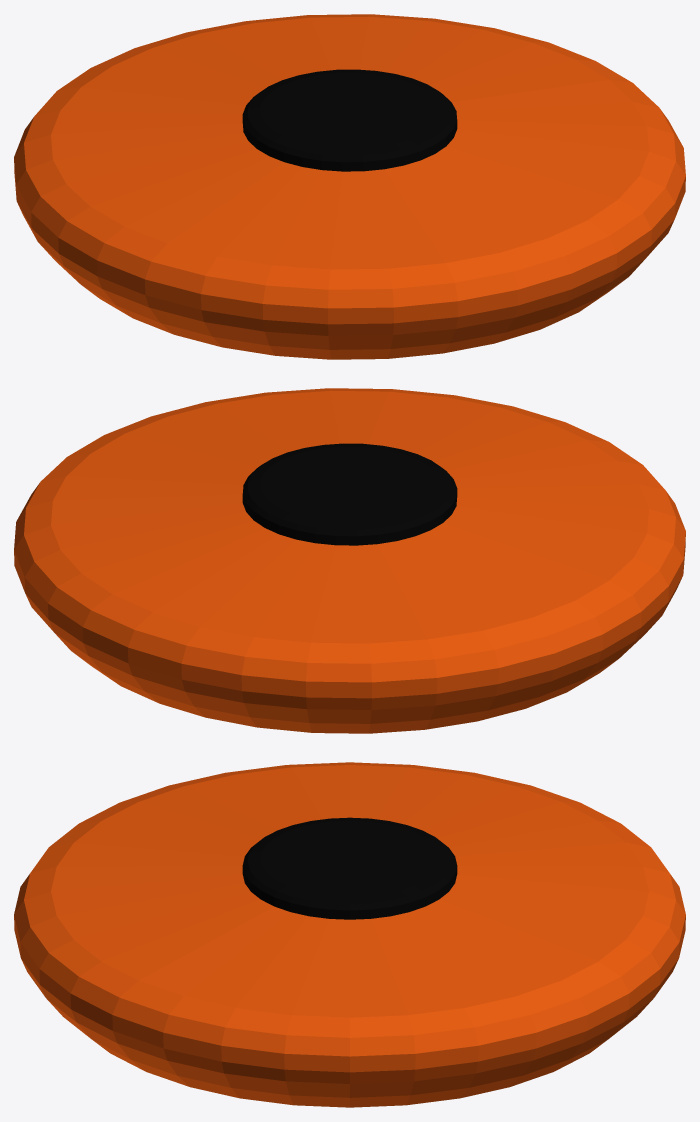
The model's file is direkslyon.fbx.
3 views of the same model, one above another, from view 1: azimuth 30°, elevation 25°; view 2: azimuth 150°, elevation 25°; view 3: azimuth 270°, elevation 25° (orthographic).
Visible parts, largest first — view 1: Circle; view 2: Circle; view 3: Circle.
Boxes of the visible parts, x1=… form: Circle: x1=14, y1=14, x2=685, y2=359; Circle: x1=14, y1=388, x2=685, y2=733; Circle: x1=14, y1=762, x2=685, y2=1107.
Bounding box in the file's own units: 7.16 × 1.6 × 7.16.
